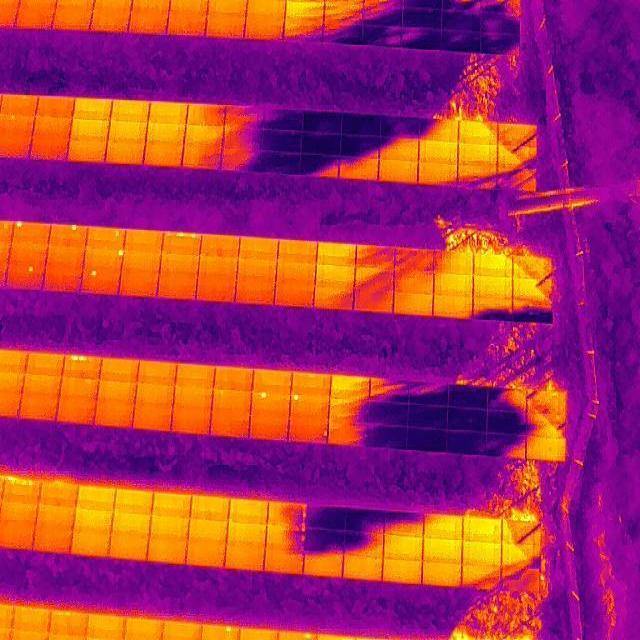Cell: (80, 268, 121, 294), (5, 262, 45, 288), (251, 392, 290, 418), (83, 246, 124, 270), (291, 394, 330, 418), (86, 225, 126, 247), (48, 224, 87, 245), (11, 222, 50, 242), (0, 115, 34, 136)
Cell-Multi: (3, 480, 41, 504), (162, 232, 202, 252)
No-Anomaly: (157, 271, 198, 299), (246, 10, 285, 39), (237, 276, 276, 305), (206, 10, 246, 38), (34, 525, 74, 553), (118, 269, 160, 295), (198, 274, 237, 302), (425, 512, 464, 540), (464, 516, 503, 544), (149, 536, 188, 564), (43, 265, 84, 291), (168, 8, 206, 36), (130, 7, 169, 34), (418, 162, 458, 188), (434, 272, 474, 298), (383, 535, 423, 561), (462, 540, 502, 566), (343, 556, 383, 582), (383, 558, 423, 584), (459, 118, 498, 144), (91, 6, 130, 32), (275, 282, 314, 308), (172, 409, 211, 435), (211, 412, 250, 438), (250, 416, 289, 442), (191, 496, 230, 522), (228, 522, 267, 548), (72, 529, 111, 555), (110, 534, 149, 560), (423, 538, 462, 564), (330, 375, 370, 400), (17, 0, 55, 26), (229, 499, 267, 525), (143, 144, 184, 168), (303, 554, 344, 578), (52, 5, 91, 30), (57, 400, 96, 425), (289, 420, 328, 445), (434, 294, 474, 318), (422, 562, 462, 586), (110, 100, 150, 124), (134, 408, 172, 433), (379, 161, 418, 185), (474, 254, 513, 278), (253, 368, 292, 392), (136, 385, 175, 409), (115, 491, 154, 515), (226, 548, 265, 572), (75, 507, 112, 532), (474, 276, 514, 299), (138, 361, 176, 385), (176, 364, 214, 388), (214, 368, 252, 392), (174, 388, 212, 412), (528, 438, 566, 462), (77, 488, 115, 512), (153, 494, 191, 518), (187, 542, 225, 566), (28, 139, 69, 161), (27, 352, 63, 377), (106, 141, 145, 164), (112, 511, 151, 534), (123, 617, 162, 640), (101, 358, 138, 382), (61, 378, 98, 402), (49, 612, 86, 636), (32, 116, 72, 138), (146, 124, 186, 146), (316, 266, 356, 288), (148, 102, 188, 124), (151, 516, 189, 539), (21, 398, 57, 422), (419, 142, 458, 164), (201, 235, 240, 257), (279, 240, 318, 262), (317, 243, 356, 265), (9, 244, 48, 266), (394, 294, 433, 316), (96, 405, 135, 427), (265, 552, 304, 574), (69, 120, 109, 141), (458, 144, 498, 165), (0, 524, 35, 548), (13, 606, 48, 630), (73, 99, 113, 120), (23, 375, 61, 397), (67, 142, 108, 162), (36, 505, 77, 525), (46, 245, 85, 266), (292, 372, 331, 393), (99, 383, 136, 405), (0, 502, 37, 524), (87, 616, 122, 639), (108, 121, 148, 141), (160, 252, 200, 272), (41, 484, 79, 505), (187, 104, 225, 125), (124, 229, 163, 249), (239, 238, 278, 258), (200, 256, 239, 276), (238, 258, 277, 278), (277, 262, 316, 282), (212, 392, 251, 412), (35, 98, 74, 118), (125, 249, 162, 270), (184, 126, 224, 145), (190, 522, 228, 542), (0, 96, 37, 115), (0, 136, 30, 159)
Shadowing: (328, 420, 369, 449), (329, 397, 370, 425), (497, 165, 537, 193), (369, 377, 409, 405), (315, 284, 355, 311), (182, 144, 223, 170), (384, 512, 425, 538), (285, 15, 325, 41), (527, 389, 567, 415), (408, 404, 448, 430), (368, 422, 408, 448), (266, 526, 306, 552), (486, 433, 527, 458), (325, 18, 364, 44), (267, 502, 306, 528), (363, 23, 403, 48), (409, 380, 449, 405), (514, 256, 555, 280), (407, 428, 448, 452), (448, 385, 487, 410), (307, 505, 346, 530), (503, 520, 542, 545), (305, 530, 344, 555), (434, 251, 474, 275), (395, 270, 435, 294), (474, 298, 514, 322), (487, 388, 527, 412), (368, 401, 408, 425), (502, 544, 542, 568), (487, 411, 528, 434), (355, 288, 394, 312), (448, 408, 487, 432), (448, 432, 487, 456), (346, 532, 385, 556), (341, 112, 380, 136), (513, 280, 555, 302), (395, 248, 433, 272), (403, 28, 441, 52), (346, 508, 384, 532), (502, 568, 540, 592), (260, 153, 301, 175), (513, 300, 554, 322), (441, 30, 482, 52), (340, 136, 379, 159), (356, 246, 395, 269), (302, 111, 341, 134), (363, 3, 403, 25), (419, 120, 459, 142), (498, 122, 538, 144), (299, 156, 339, 178), (339, 159, 379, 181), (480, 34, 520, 56), (222, 150, 263, 171), (380, 118, 419, 140), (223, 128, 262, 150), (380, 139, 419, 161), (403, 5, 442, 27), (527, 415, 566, 437), (462, 565, 501, 587), (301, 135, 341, 156), (498, 144, 538, 165), (442, 9, 482, 30), (482, 10, 520, 32), (356, 268, 394, 290), (225, 106, 263, 128), (458, 165, 497, 186), (263, 110, 302, 131), (262, 132, 301, 152)
Unclassified: (63, 355, 101, 380)
